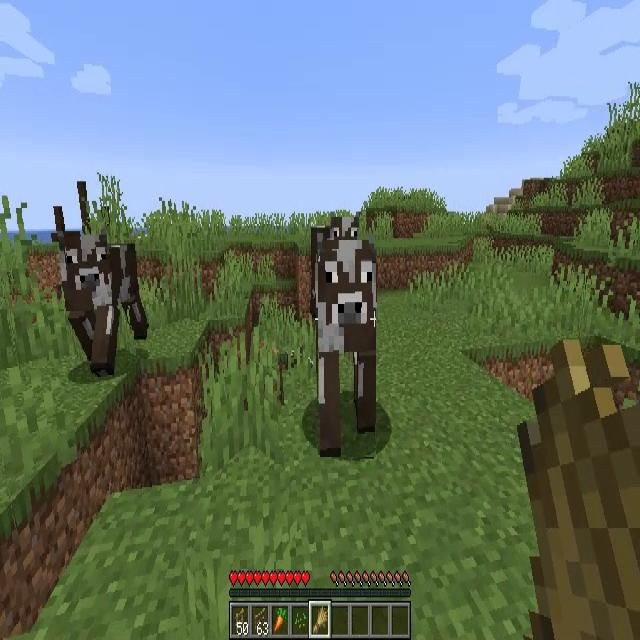cow: (58, 229, 146, 378), (318, 249, 376, 457), (311, 218, 359, 324)
